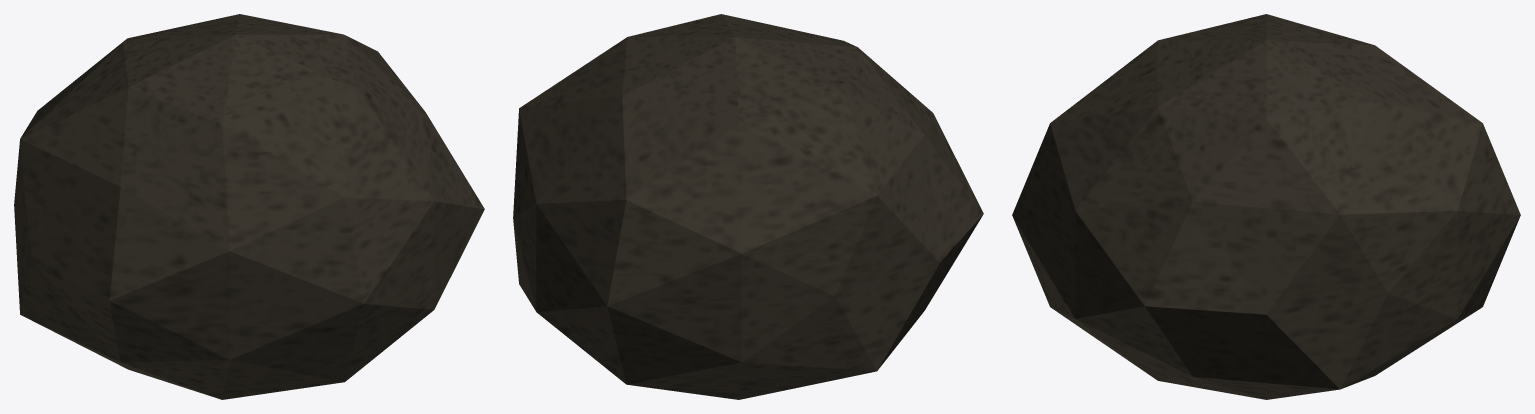
The picture shows the model from 3 angles, left to right: view 1: azimuth 30°, elevation 25°; view 2: azimuth 150°, elevation 25°; view 3: azimuth 270°, elevation 25°; orthographic projection.
Visible parts, largest first — view 1: stone-0; view 2: stone-0; view 3: stone-0.
Boxes of the visible parts, x1=… form: stone-0: x1=14, y1=14, x2=484, y2=399; stone-0: x1=513, y1=14, x2=983, y2=399; stone-0: x1=1012, y1=14, x2=1520, y2=399.
Size of the model in its own units: 0.25 by 0.18 by 0.27.
Materials: 1 (1 with a texture image).
